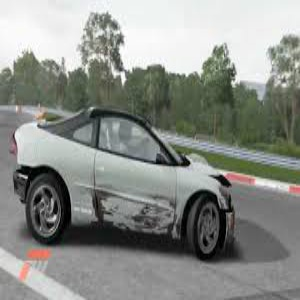door_scratch: (76, 175, 179, 239)
